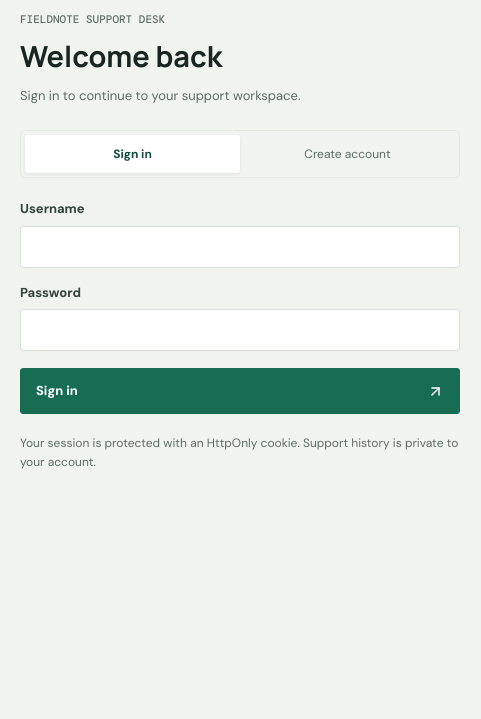
AccountForm › falls back when plan options fail, reports sign-in errors, and clears them on tab switch
Click the tab "Create account" at point(348, 154), box [240,135,455,173]
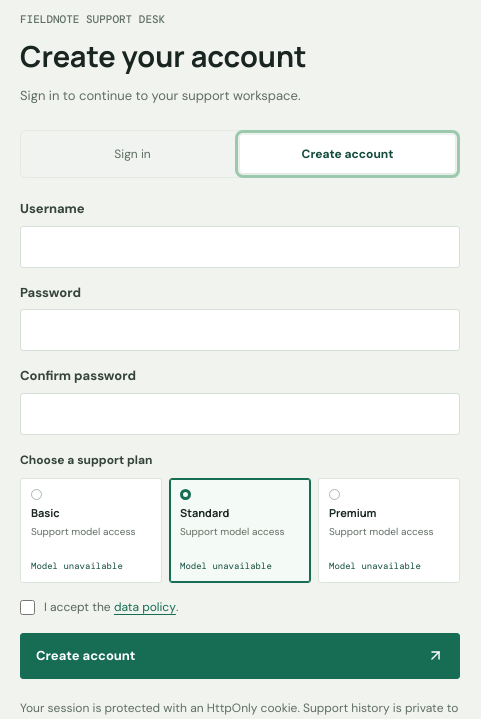
Now the text "Support model access" is shown 3 times, box [31,524,136,538]; [180,524,284,538]; [329,524,434,538]
Now the text "Model unavailable" is shown 3 times, box [31,560,123,572]; [180,560,272,572]; [329,560,421,572]
Click the tab "Sign in" at point(132, 154), box [25,135,240,173]
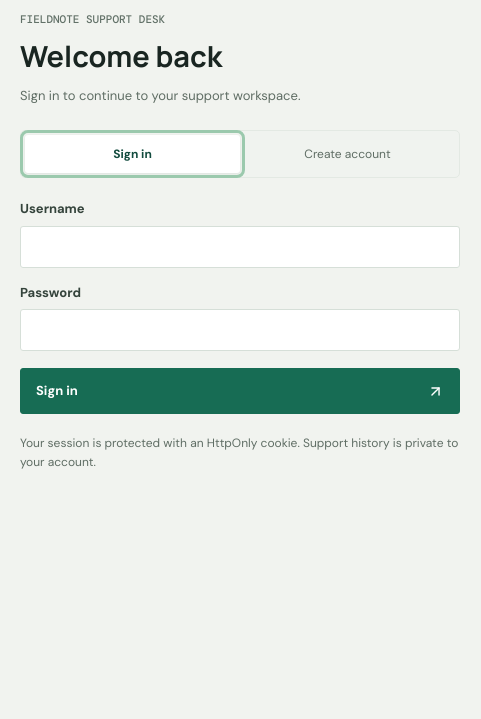
Type "ava" into the field labelled "Username" at point(240, 246), box [20,226,460,268]
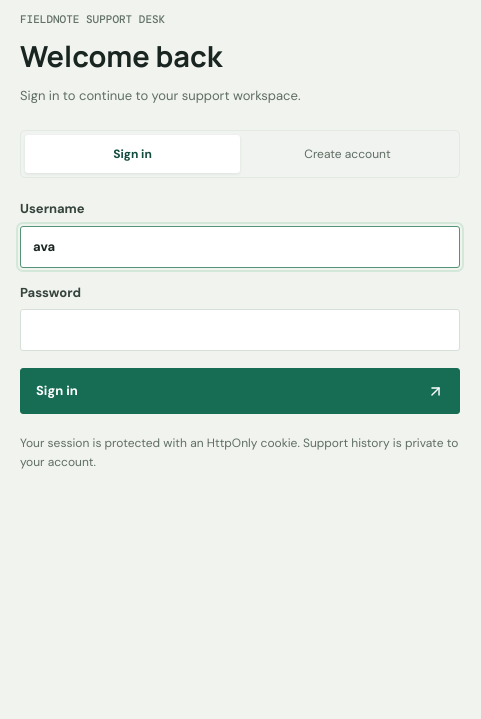
Type "secret" into the password field labelled "Password" at point(240, 330), box [20,309,460,351]
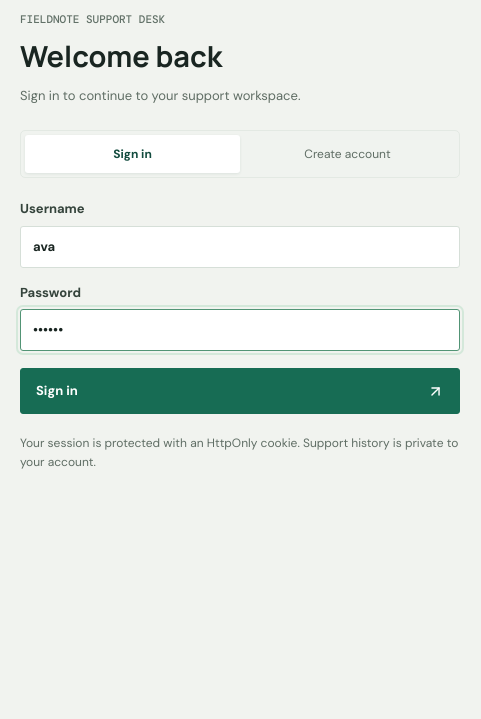
Click the button "Sign in" at point(57, 391), box [20,368,460,414]
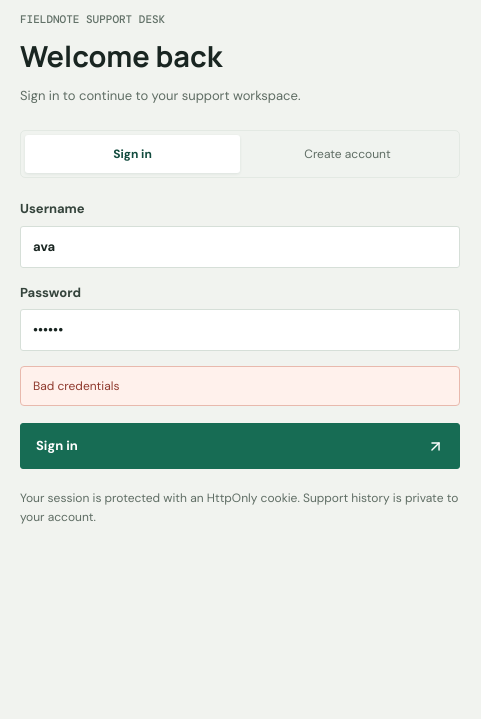
Now the message reads "Bad credentials", box [33,378,119,394]
Click the tab "Sign in" at point(132, 154), box [25,135,240,173]
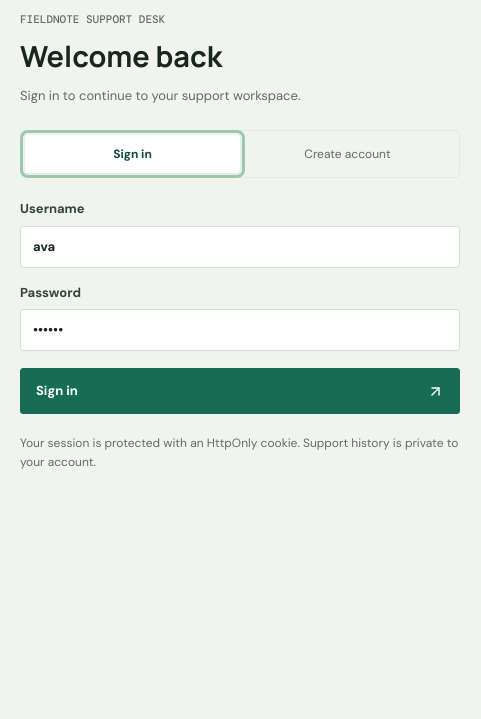
Now the message "Bad credentials" is gone
